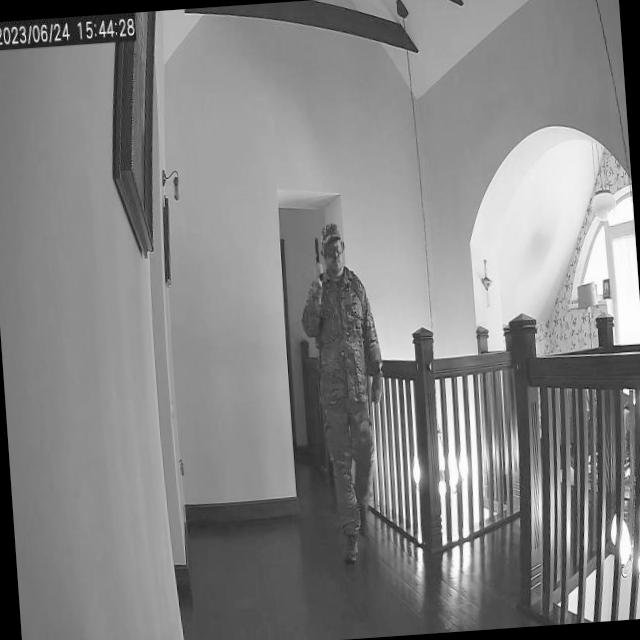gun: (312, 233, 324, 284)
person with a gun: (306, 215, 393, 562)
